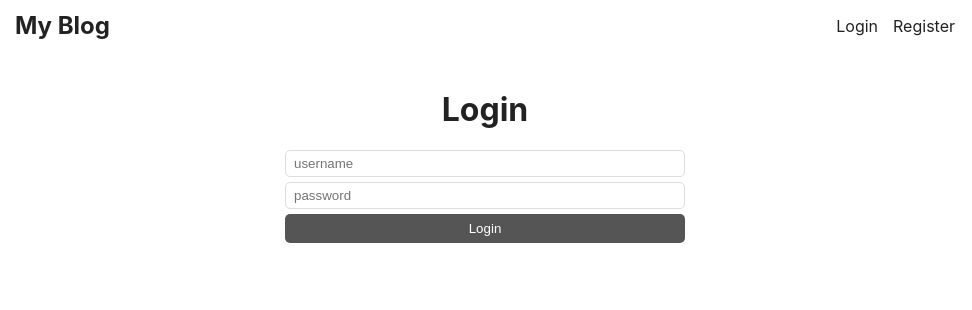
Scenario: login shows the server's error message
Type "alice" into the field with placeholder "username" at point(485, 164), box [285,150,685,177]
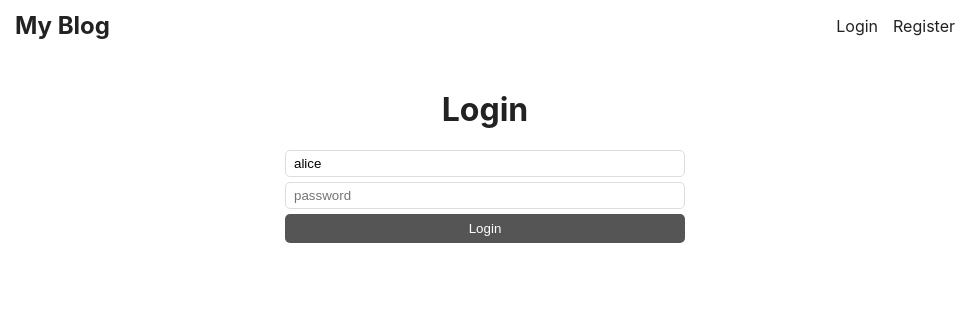
Type "wrong-password" into the password field with placeholder "password" at point(485, 196), box [285,182,685,209]
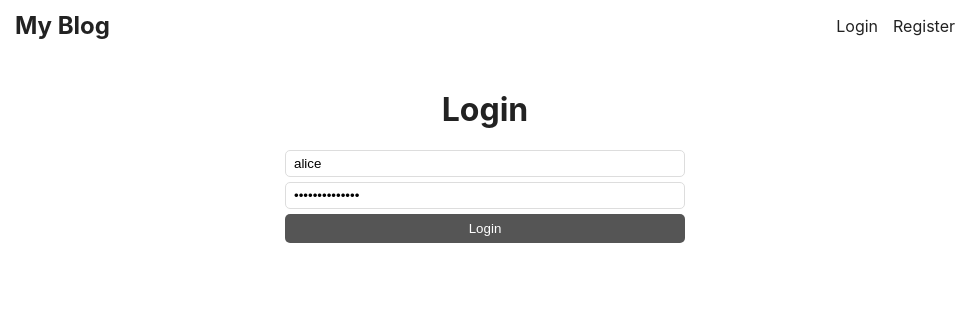
Click the button "Login" at point(485, 229), box [285,214,685,243]
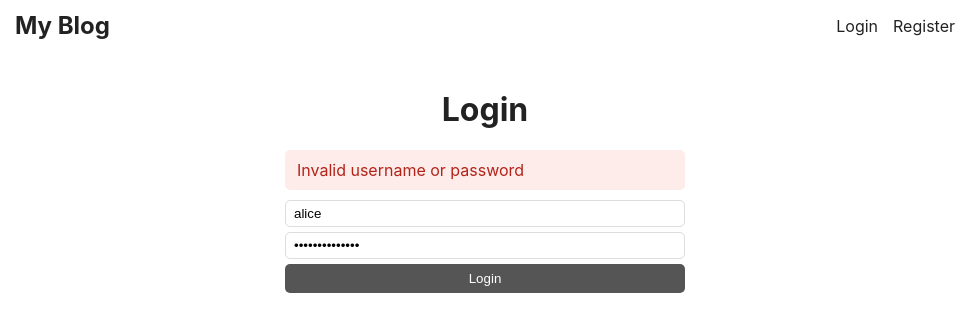
Check: the text "Invalid username or password" is shown, box [285,150,685,190]
